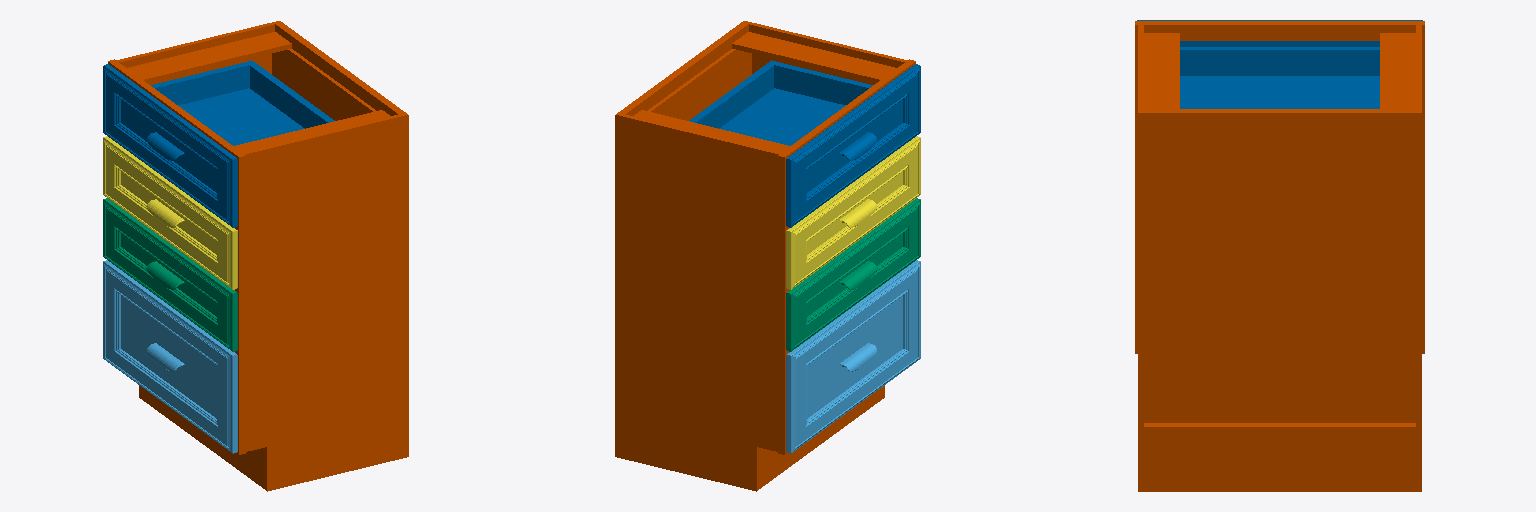
--- Render facts (derived) ---
The picture shows the robot from 3 angles, left to right: view 1: azimuth 30°, elevation 25°; view 2: azimuth 150°, elevation 25°; view 3: azimuth 270°, elevation 25°; orthographic projection.
Model partnet_12cb11dbb135ca9ac59350d819542ec7 with 6 links and 5 joints (4 prismatic, 1 fixed), rooted at base, posed every joint at zero.
Links seen in each view (by area): view 1: link_4, link_3, link_0, link_2, link_1; view 2: link_4, link_3, link_0, link_2, link_1; view 3: link_4, link_3.
Link boxes in pixels (x1,y1,x2,y2): link_4: (108, 21, 408, 491); link_3: (103, 60, 334, 227); link_0: (103, 260, 237, 453); link_2: (103, 136, 237, 289); link_1: (103, 198, 237, 351); link_4: (615, 21, 915, 491); link_3: (689, 60, 920, 227); link_0: (786, 260, 920, 453); link_2: (786, 136, 920, 289); link_1: (786, 198, 920, 351); link_4: (1135, 21, 1424, 491); link_3: (1137, 20, 1422, 108).
Size in the robot's own frame: 0.8429 by 1.04 by 1.5 metres.
93 mesh visuals loaded from 93 distinct referenced files (93 OBJ).

URDF robot description (partnet_12cb11dbb135ca9ac59350d819542ec7):
<?xml version="1.0" ?>
<robot name="partnet_12cb11dbb135ca9ac59350d819542ec7">
	<link name="base"/>
	<link name="link_0">
		<visual name="drawer_front-31">
			<origin xyz="0 0 0"/>
			<geometry>
				<mesh filename="package://objects_description/storage1/textured_objs/original-50.obj"/>
			</geometry>
		</visual>
		<visual name="drawer_front-31">
			<origin xyz="0 0 0"/>
			<geometry>
				<mesh filename="package://objects_description/storage1/textured_objs/original-67.obj"/>
			</geometry>
		</visual>
		<visual name="drawer_front-31">
			<origin xyz="0 0 0"/>
			<geometry>
				<mesh filename="package://objects_description/storage1/textured_objs/original-61.obj"/>
			</geometry>
		</visual>
		<visual name="drawer_front-31">
			<origin xyz="0 0 0"/>
			<geometry>
				<mesh filename="package://objects_description/storage1/textured_objs/original-64.obj"/>
			</geometry>
		</visual>
		<visual name="drawer_front-31">
			<origin xyz="0 0 0"/>
			<geometry>
				<mesh filename="package://objects_description/storage1/textured_objs/original-58.obj"/>
			</geometry>
		</visual>
		<visual name="drawer_front-31">
			<origin xyz="0 0 0"/>
			<geometry>
				<mesh filename="package://objects_description/storage1/textured_objs/original-62.obj"/>
			</geometry>
		</visual>
		<visual name="drawer_front-31">
			<origin xyz="0 0 0"/>
			<geometry>
				<mesh filename="package://objects_description/storage1/textured_objs/original-59.obj"/>
			</geometry>
		</visual>
		<visual name="drawer_front-31">
			<origin xyz="0 0 0"/>
			<geometry>
				<mesh filename="package://objects_description/storage1/textured_objs/original-65.obj"/>
			</geometry>
		</visual>
		<visual name="drawer_front-31">
			<origin xyz="0 0 0"/>
			<geometry>
				<mesh filename="package://objects_description/storage1/textured_objs/original-60.obj"/>
			</geometry>
		</visual>
		<visual name="drawer_front-31">
			<origin xyz="0 0 0"/>
			<geometry>
				<mesh filename="package://objects_description/storage1/textured_objs/original-63.obj"/>
			</geometry>
		</visual>
		<visual name="drawer_front-31">
			<origin xyz="0 0 0"/>
			<geometry>
				<mesh filename="package://objects_description/storage1/textured_objs/original-68.obj"/>
			</geometry>
		</visual>
		<visual name="drawer_side-32">
			<origin xyz="0 0 0"/>
			<geometry>
				<mesh filename="package://objects_description/storage1/textured_objs/original-49.obj"/>
			</geometry>
		</visual>
		<visual name="drawer_side-33">
			<origin xyz="0 0 0"/>
			<geometry>
				<mesh filename="package://objects_description/storage1/textured_objs/original-54.obj"/>
			</geometry>
		</visual>
		<visual name="drawer_side-33">
			<origin xyz="0 0 0"/>
			<geometry>
				<mesh filename="package://objects_description/storage1/textured_objs/original-56.obj"/>
			</geometry>
		</visual>
		<visual name="drawer_back-34">
			<origin xyz="0 0 0"/>
			<geometry>
				<mesh filename="package://objects_description/storage1/textured_objs/original-55.obj"/>
			</geometry>
		</visual>
		<visual name="drawer_bottom-35">
			<origin xyz="0 0 0"/>
			<geometry>
				<mesh filename="package://objects_description/storage1/textured_objs/original-53.obj"/>
			</geometry>
		</visual>
		<visual name="drawer_bottom-35">
			<origin xyz="0 0 0"/>
			<geometry>
				<mesh filename="package://objects_description/storage1/textured_objs/original-52.obj"/>
			</geometry>
		</visual>
		<visual name="handle-30">
			<origin xyz="0 0 0"/>
			<geometry>
				<mesh filename="package://objects_description/storage1/textured_objs/original-69.obj"/>
			</geometry>
		</visual>
		<collision>
			<origin xyz="0 0 0"/>
			<geometry>
				<mesh filename="package://objects_description/storage1/textured_objs/original-50.obj"/>
			</geometry>
		</collision>
		<collision>
			<origin xyz="0 0 0"/>
			<geometry>
				<mesh filename="package://objects_description/storage1/textured_objs/original-67.obj"/>
			</geometry>
		</collision>
		<collision>
			<origin xyz="0 0 0"/>
			<geometry>
				<mesh filename="package://objects_description/storage1/textured_objs/original-61.obj"/>
			</geometry>
		</collision>
		<collision>
			<origin xyz="0 0 0"/>
			<geometry>
				<mesh filename="package://objects_description/storage1/textured_objs/original-64.obj"/>
			</geometry>
		</collision>
		<collision>
			<origin xyz="0 0 0"/>
			<geometry>
				<mesh filename="package://objects_description/storage1/textured_objs/original-58.obj"/>
			</geometry>
		</collision>
		<collision>
			<origin xyz="0 0 0"/>
			<geometry>
				<mesh filename="package://objects_description/storage1/textured_objs/original-62.obj"/>
			</geometry>
		</collision>
		<collision>
			<origin xyz="0 0 0"/>
			<geometry>
				<mesh filename="package://objects_description/storage1/textured_objs/original-59.obj"/>
			</geometry>
		</collision>
		<collision>
			<origin xyz="0 0 0"/>
			<geometry>
				<mesh filename="package://objects_description/storage1/textured_objs/original-65.obj"/>
			</geometry>
		</collision>
		<collision>
			<origin xyz="0 0 0"/>
			<geometry>
				<mesh filename="package://objects_description/storage1/textured_objs/original-60.obj"/>
			</geometry>
		</collision>
		<collision>
			<origin xyz="0 0 0"/>
			<geometry>
				<mesh filename="package://objects_description/storage1/textured_objs/original-63.obj"/>
			</geometry>
		</collision>
		<collision>
			<origin xyz="0 0 0"/>
			<geometry>
				<mesh filename="package://objects_description/storage1/textured_objs/original-68.obj"/>
			</geometry>
		</collision>
		<collision>
			<origin xyz="0 0 0"/>
			<geometry>
				<mesh filename="package://objects_description/storage1/textured_objs/original-49.obj"/>
			</geometry>
		</collision>
		<collision>
			<origin xyz="0 0 0"/>
			<geometry>
				<mesh filename="package://objects_description/storage1/textured_objs/original-54.obj"/>
			</geometry>
		</collision>
		<collision>
			<origin xyz="0 0 0"/>
			<geometry>
				<mesh filename="package://objects_description/storage1/textured_objs/original-56.obj"/>
			</geometry>
		</collision>
		<collision>
			<origin xyz="0 0 0"/>
			<geometry>
				<mesh filename="package://objects_description/storage1/textured_objs/original-55.obj"/>
			</geometry>
		</collision>
		<collision>
			<origin xyz="0 0 0"/>
			<geometry>
				<mesh filename="package://objects_description/storage1/textured_objs/original-53.obj"/>
			</geometry>
		</collision>
		<collision>
			<origin xyz="0 0 0"/>
			<geometry>
				<mesh filename="package://objects_description/storage1/textured_objs/original-52.obj"/>
			</geometry>
		</collision>
		<collision>
			<origin xyz="0 0 0"/>
			<geometry>
				<mesh filename="package://objects_description/storage1/textured_objs/original-69.obj"/>
			</geometry>
		</collision>
	</link>
	<joint name="joint_0" type="prismatic">
		<origin xyz="0 0 0"/>
		<axis xyz="0 0 1"/>
		<child link="link_0"/>
		<parent link="link_4"/>
		<limit lower="0" upper="0.5"/>
	</joint>
	<link name="link_1">
		<visual name="drawer_front-24">
			<origin xyz="0 0 0"/>
			<geometry>
				<mesh filename="package://objects_description/storage1/textured_objs/original-113.obj"/>
			</geometry>
		</visual>
		<visual name="drawer_front-24">
			<origin xyz="0 0 0"/>
			<geometry>
				<mesh filename="package://objects_description/storage1/textured_objs/original-110.obj"/>
			</geometry>
		</visual>
		<visual name="drawer_front-24">
			<origin xyz="0 0 0"/>
			<geometry>
				<mesh filename="package://objects_description/storage1/textured_objs/original-104.obj"/>
			</geometry>
		</visual>
		<visual name="drawer_front-24">
			<origin xyz="0 0 0"/>
			<geometry>
				<mesh filename="package://objects_description/storage1/textured_objs/original-107.obj"/>
			</geometry>
		</visual>
		<visual name="drawer_front-24">
			<origin xyz="0 0 0"/>
			<geometry>
				<mesh filename="package://objects_description/storage1/textured_objs/original-109.obj"/>
			</geometry>
		</visual>
		<visual name="drawer_front-24">
			<origin xyz="0 0 0"/>
			<geometry>
				<mesh filename="package://objects_description/storage1/textured_objs/original-106.obj"/>
			</geometry>
		</visual>
		<visual name="drawer_front-24">
			<origin xyz="0 0 0"/>
			<geometry>
				<mesh filename="package://objects_description/storage1/textured_objs/original-105.obj"/>
			</geometry>
		</visual>
		<visual name="drawer_front-24">
			<origin xyz="0 0 0"/>
			<geometry>
				<mesh filename="package://objects_description/storage1/textured_objs/original-111.obj"/>
			</geometry>
		</visual>
		<visual name="drawer_front-24">
			<origin xyz="0 0 0"/>
			<geometry>
				<mesh filename="package://objects_description/storage1/textured_objs/original-96.obj"/>
			</geometry>
		</visual>
		<visual name="drawer_front-24">
			<origin xyz="0 0 0"/>
			<geometry>
				<mesh filename="package://objects_description/storage1/textured_objs/original-108.obj"/>
			</geometry>
		</visual>
		<visual name="drawer_front-24">
			<origin xyz="0 0 0"/>
			<geometry>
				<mesh filename="package://objects_description/storage1/textured_objs/original-114.obj"/>
			</geometry>
		</visual>
		<visual name="drawer_side-25">
			<origin xyz="0 0 0"/>
			<geometry>
				<mesh filename="package://objects_description/storage1/textured_objs/original-95.obj"/>
			</geometry>
		</visual>
		<visual name="drawer_side-26">
			<origin xyz="0 0 0"/>
			<geometry>
				<mesh filename="package://objects_description/storage1/textured_objs/original-100.obj"/>
			</geometry>
		</visual>
		<visual name="drawer_side-26">
			<origin xyz="0 0 0"/>
			<geometry>
				<mesh filename="package://objects_description/storage1/textured_objs/original-102.obj"/>
			</geometry>
		</visual>
		<visual name="drawer_back-27">
			<origin xyz="0 0 0"/>
			<geometry>
				<mesh filename="package://objects_description/storage1/textured_objs/original-101.obj"/>
			</geometry>
		</visual>
		<visual name="drawer_bottom-28">
			<origin xyz="0 0 0"/>
			<geometry>
				<mesh filename="package://objects_description/storage1/textured_objs/original-99.obj"/>
			</geometry>
		</visual>
		<visual name="drawer_bottom-28">
			<origin xyz="0 0 0"/>
			<geometry>
				<mesh filename="package://objects_description/storage1/textured_objs/original-98.obj"/>
			</geometry>
		</visual>
		<visual name="handle-23">
			<origin xyz="0 0 0"/>
			<geometry>
				<mesh filename="package://objects_description/storage1/textured_objs/original-115.obj"/>
			</geometry>
		</visual>
		<collision>
			<origin xyz="0 0 0"/>
			<geometry>
				<mesh filename="package://objects_description/storage1/textured_objs/original-113.obj"/>
			</geometry>
		</collision>
		<collision>
			<origin xyz="0 0 0"/>
			<geometry>
				<mesh filename="package://objects_description/storage1/textured_objs/original-110.obj"/>
			</geometry>
		</collision>
		<collision>
			<origin xyz="0 0 0"/>
			<geometry>
				<mesh filename="package://objects_description/storage1/textured_objs/original-104.obj"/>
			</geometry>
		</collision>
		<collision>
			<origin xyz="0 0 0"/>
			<geometry>
				<mesh filename="package://objects_description/storage1/textured_objs/original-107.obj"/>
			</geometry>
		</collision>
		<collision>
			<origin xyz="0 0 0"/>
			<geometry>
				<mesh filename="package://objects_description/storage1/textured_objs/original-109.obj"/>
			</geometry>
		</collision>
		<collision>
			<origin xyz="0 0 0"/>
			<geometry>
				<mesh filename="package://objects_description/storage1/textured_objs/original-106.obj"/>
			</geometry>
		</collision>
		<collision>
			<origin xyz="0 0 0"/>
			<geometry>
				<mesh filename="package://objects_description/storage1/textured_objs/original-105.obj"/>
			</geometry>
		</collision>
		<collision>
			<origin xyz="0 0 0"/>
			<geometry>
				<mesh filename="package://objects_description/storage1/textured_objs/original-111.obj"/>
			</geometry>
		</collision>
		<collision>
			<origin xyz="0 0 0"/>
			<geometry>
				<mesh filename="package://objects_description/storage1/textured_objs/original-96.obj"/>
			</geometry>
		</collision>
		<collision>
			<origin xyz="0 0 0"/>
			<geometry>
				<mesh filename="package://objects_description/storage1/textured_objs/original-108.obj"/>
			</geometry>
		</collision>
		<collision>
			<origin xyz="0 0 0"/>
			<geometry>
				<mesh filename="package://objects_description/storage1/textured_objs/original-114.obj"/>
			</geometry>
		</collision>
		<collision>
			<origin xyz="0 0 0"/>
			<geometry>
				<mesh filename="package://objects_description/storage1/textured_objs/original-95.obj"/>
			</geometry>
		</collision>
		<collision>
			<origin xyz="0 0 0"/>
			<geometry>
				<mesh filename="package://objects_description/storage1/textured_objs/original-100.obj"/>
			</geometry>
		</collision>
		<collision>
			<origin xyz="0 0 0"/>
			<geometry>
				<mesh filename="package://objects_description/storage1/textured_objs/original-102.obj"/>
			</geometry>
		</collision>
		<collision>
			<origin xyz="0 0 0"/>
			<geometry>
				<mesh filename="package://objects_description/storage1/textured_objs/original-101.obj"/>
			</geometry>
		</collision>
		<collision>
			<origin xyz="0 0 0"/>
			<geometry>
				<mesh filename="package://objects_description/storage1/textured_objs/original-99.obj"/>
			</geometry>
		</collision>
		<collision>
			<origin xyz="0 0 0"/>
			<geometry>
				<mesh filename="package://objects_description/storage1/textured_objs/original-98.obj"/>
			</geometry>
		</collision>
		<collision>
			<origin xyz="0 0 0"/>
			<geometry>
				<mesh filename="package://objects_description/storage1/textured_objs/original-115.obj"/>
			</geometry>
		</collision>
	</link>
	<joint name="joint_1" type="prismatic">
		<origin xyz="0 0 0"/>
		<axis xyz="0 0 1"/>
		<child link="link_1"/>
		<parent link="link_4"/>
		<limit lower="0" upper="0.5"/>
	</joint>
	<link name="link_2">
		<visual name="drawer_front-17">
			<origin xyz="0 0 0"/>
			<geometry>
				<mesh filename="package://objects_description/storage1/textured_objs/original-87.obj"/>
			</geometry>
		</visual>
		<visual name="drawer_front-17">
			<origin xyz="0 0 0"/>
			<geometry>
				<mesh filename="package://objects_description/storage1/textured_objs/original-90.obj"/>
			</geometry>
		</visual>
		<visual name="drawer_front-17">
			<origin xyz="0 0 0"/>
			<geometry>
				<mesh filename="package://objects_description/storage1/textured_objs/original-86.obj"/>
			</geometry>
		</visual>
		<visual name="drawer_front-17">
			<origin xyz="0 0 0"/>
			<geometry>
				<mesh filename="package://objects_description/storage1/textured_objs/original-85.obj"/>
			</geometry>
		</visual>
		<visual name="drawer_front-17">
			<origin xyz="0 0 0"/>
			<geometry>
				<mesh filename="package://objects_description/storage1/textured_objs/original-81.obj"/>
			</geometry>
		</visual>
		<visual name="drawer_front-17">
			<origin xyz="0 0 0"/>
			<geometry>
				<mesh filename="package://objects_description/storage1/textured_objs/original-84.obj"/>
			</geometry>
		</visual>
		<visual name="drawer_front-17">
			<origin xyz="0 0 0"/>
			<geometry>
				<mesh filename="package://objects_description/storage1/textured_objs/original-83.obj"/>
			</geometry>
		</visual>
		<visual name="drawer_front-17">
			<origin xyz="0 0 0"/>
			<geometry>
				<mesh filename="package://objects_description/storage1/textured_objs/original-82.obj"/>
			</geometry>
		</visual>
		<visual name="drawer_front-17">
			<origin xyz="0 0 0"/>
			<geometry>
				<mesh filename="package://objects_description/storage1/textured_objs/original-88.obj"/>
			</geometry>
		</visual>
		<visual name="drawer_front-17">
			<origin xyz="0 0 0"/>
			<geometry>
				<mesh filename="package://objects_description/storage1/textured_objs/original-91.obj"/>
			</geometry>
		</visual>
		<visual name="drawer_front-17">
			<origin xyz="0 0 0"/>
			<geometry>
				<mesh filename="package://objects_description/storage1/textured_objs/original-73.obj"/>
			</geometry>
		</visual>
		<visual name="drawer_side-18">
			<origin xyz="0 0 0"/>
			<geometry>
				<mesh filename="package://objects_description/storage1/textured_objs/original-72.obj"/>
			</geometry>
		</visual>
		<visual name="drawer_side-19">
			<origin xyz="0 0 0"/>
			<geometry>
				<mesh filename="package://objects_description/storage1/textured_objs/original-77.obj"/>
			</geometry>
		</visual>
		<visual name="drawer_side-19">
			<origin xyz="0 0 0"/>
			<geometry>
				<mesh filename="package://objects_description/storage1/textured_objs/original-79.obj"/>
			</geometry>
		</visual>
		<visual name="drawer_back-20">
			<origin xyz="0 0 0"/>
			<geometry>
				<mesh filename="package://objects_description/storage1/textured_objs/original-78.obj"/>
			</geometry>
		</visual>
		<visual name="drawer_bottom-21">
			<origin xyz="0 0 0"/>
			<geometry>
				<mesh filename="package://objects_description/storage1/textured_objs/original-76.obj"/>
			</geometry>
		</visual>
		<visual name="drawer_bottom-21">
			<origin xyz="0 0 0"/>
			<geometry>
				<mesh filename="package://objects_description/storage1/textured_objs/original-75.obj"/>
			</geometry>
		</visual>
		<visual name="handle-16">
			<origin xyz="0 0 0"/>
			<geometry>
				<mesh filename="package://objects_description/storage1/textured_objs/original-92.obj"/>
			</geometry>
		</visual>
		<collision>
			<origin xyz="0 0 0"/>
			<geometry>
				<mesh filename="package://objects_description/storage1/textured_objs/original-87.obj"/>
			</geometry>
		</collision>
		<collision>
			<origin xyz="0 0 0"/>
			<geometry>
				<mesh filename="package://objects_description/storage1/textured_objs/original-90.obj"/>
			</geometry>
		</collision>
		<collision>
			<origin xyz="0 0 0"/>
			<geometry>
				<mesh filename="package://objects_description/storage1/textured_objs/original-86.obj"/>
			</geometry>
		</collision>
		<collision>
			<origin xyz="0 0 0"/>
			<geometry>
				<mesh filename="package://objects_description/storage1/textured_objs/original-85.obj"/>
			</geometry>
		</collision>
		<collision>
			<origin xyz="0 0 0"/>
			<geometry>
				<mesh filename="package://objects_description/storage1/textured_objs/original-81.obj"/>
			</geometry>
		</collision>
		<collision>
			<origin xyz="0 0 0"/>
			<geometry>
				<mesh filename="package://objects_description/storage1/textured_objs/original-84.obj"/>
			</geometry>
		</collision>
		<collision>
			<origin xyz="0 0 0"/>
			<geometry>
				<mesh filename="package://objects_description/storage1/textured_objs/original-83.obj"/>
			</geometry>
		</collision>
		<collision>
			<origin xyz="0 0 0"/>
			<geometry>
				<mesh filename="package://objects_description/storage1/textured_objs/original-82.obj"/>
			</geometry>
		</collision>
		<collision>
			<origin xyz="0 0 0"/>
			<geometry>
				<mesh filename="package://objects_description/storage1/textured_objs/original-88.obj"/>
			</geometry>
		</collision>
		<collision>
			<origin xyz="0 0 0"/>
			<geometry>
				<mesh filename="package://objects_description/storage1/textured_objs/original-91.obj"/>
			</geometry>
		</collision>
		<collision>
			<origin xyz="0 0 0"/>
			<geometry>
				<mesh filename="package://objects_description/storage1/textured_objs/original-73.obj"/>
			</geometry>
		</collision>
		<collision>
			<origin xyz="0 0 0"/>
			<geometry>
				<mesh filename="package://objects_description/storage1/textured_objs/original-72.obj"/>
			</geometry>
		</collision>
		<collision>
			<origin xyz="0 0 0"/>
			<geometry>
				<mesh filename="package://objects_description/storage1/textured_objs/original-77.obj"/>
			</geometry>
		</collision>
		<collision>
			<origin xyz="0 0 0"/>
			<geometry>
				<mesh filename="package://objects_description/storage1/textured_objs/original-79.obj"/>
			</geometry>
		</collision>
		<collision>
			<origin xyz="0 0 0"/>
			<geometry>
				<mesh filename="package://objects_description/storage1/textured_objs/original-78.obj"/>
			</geometry>
		</collision>
		<collision>
			<origin xyz="0 0 0"/>
			<geometry>
				<mesh filename="package://objects_description/storage1/textured_objs/original-76.obj"/>
			</geometry>
		</collision>
		<collision>
			<origin xyz="0 0 0"/>
			<geometry>
				<mesh filename="package://objects_description/storage1/textured_objs/original-75.obj"/>
			</geometry>
		</collision>
		<collision>
			<origin xyz="0 0 0"/>
			<geometry>
				<mesh filename="package://objects_description/storage1/textured_objs/original-92.obj"/>
			</geometry>
		</collision>
	</link>
	<joint name="joint_2" type="prismatic">
		<origin xyz="0 0 0"/>
		<axis xyz="0 0 1"/>
		<child link="link_2"/>
		<parent link="link_4"/>
		<limit lower="0" upper="0.5"/>
	</joint>
	<link name="link_3">
		<visual name="drawer_front-10">
			<origin xyz="0 0 0"/>
			<geometry>
				<mesh filename="package://objects_description/storage1/textured_objs/original-41.obj"/>
			</geometry>
		</visual>
		<visual name="drawer_front-10">
			<origin xyz="0 0 0"/>
			<geometry>
				<mesh filename="package://objects_description/storage1/textured_objs/original-44.obj"/>
			</geometry>
		</visual>
		<visual name="drawer_front-10">
			<origin xyz="0 0 0"/>
			<geometry>
				<mesh filename="package://objects_description/storage1/textured_objs/original-35.obj"/>
			</geometry>
		</visual>
		<visual name="drawer_front-10">
			<origin xyz="0 0 0"/>
			<geometry>
				<mesh filename="package://objects_description/storage1/textured_objs/original-39.obj"/>
			</geometry>
		</visual>
		<visual name="drawer_front-10">
			<origin xyz="0 0 0"/>
			<geometry>
				<mesh filename="package://objects_description/storage1/textured_objs/original-36.obj"/>
			</geometry>
		</visual>
		<visual name="drawer_front-10">
			<origin xyz="0 0 0"/>
			<geometry>
				<mesh filename="package://objects_description/storage1/textured_objs/original-42.obj"/>
			</geometry>
		</visual>
		<visual name="drawer_front-10">
			<origin xyz="0 0 0"/>
			<geometry>
				<mesh filename="package://objects_description/storage1/textured_objs/original-38.obj"/>
			</geometry>
		</visual>
		<visual name="drawer_front-10">
			<origin xyz="0 0 0"/>
			<geometry>
				<mesh filename="package://objects_description/storage1/textured_objs/original-37.obj"/>
			</geometry>
		</visual>
		<visual name="drawer_front-10">
			<origin xyz="0 0 0"/>
			<geometry>
				<mesh filename="package://objects_description/storage1/textured_objs/original-45.obj"/>
			</geometry>
		</visual>
		<visual name="drawer_front-10">
			<origin xyz="0 0 0"/>
			<geometry>
				<mesh filename="package://objects_description/storage1/textured_objs/original-40.obj"/>
			</geometry>
		</visual>
		<visual name="drawer_front-10">
			<origin xyz="0 0 0"/>
			<geometry>
				<mesh filename="package://objects_description/storage1/textured_objs/original-27.obj"/>
			</geometry>
		</visual>
		<visual name="drawer_side-11">
			<origin xyz="0 0 0"/>
			<geometry>
				<mesh filename="package://objects_description/storage1/textured_objs/original-26.obj"/>
			</geometry>
		</visual>
		<visual name="drawer_side-12">
			<origin xyz="0 0 0"/>
			<geometry>
				<mesh filename="package://objects_description/storage1/textured_objs/original-31.obj"/>
			</geometry>
		</visual>
		<visual name="drawer_side-12">
			<origin xyz="0 0 0"/>
			<geometry>
				<mesh filename="package://objects_description/storage1/textured_objs/original-33.obj"/>
			</geometry>
		</visual>
		<visual name="drawer_back-13">
			<origin xyz="0 0 0"/>
			<geometry>
				<mesh filename="package://objects_description/storage1/textured_objs/original-32.obj"/>
			</geometry>
		</visual>
		<visual name="drawer_bottom-14">
			<origin xyz="0 0 0"/>
			<geometry>
				<mesh filename="package://objects_description/storage1/textured_objs/original-30.obj"/>
			</geometry>
		</visual>
		<visual name="drawer_bottom-14">
			<origin xyz="0 0 0"/>
			<geometry>
				<mesh filename="package://objects_description/storage1/textured_objs/original-29.obj"/>
			</geometry>
		</visual>
		<visual name="handle-9">
			<origin xyz="0 0 0"/>
			<geometry>
				<mesh filename="package://objects_description/storage1/textured_objs/original-46.obj"/>
			</geometry>
		</visual>
		<collision>
			<origin xyz="0 0 0"/>
			<geometry>
				<mesh filename="package://objects_description/storage1/textured_objs/original-41.obj"/>
			</geometry>
		</collision>
		<collision>
			<origin xyz="0 0 0"/>
			<geometry>
				<mesh filename="package://objects_description/storage1/textured_objs/original-44.obj"/>
			</geometry>
		</collision>
		<collision>
			<origin xyz="0 0 0"/>
			<geometry>
				<mesh filename="package://objects_description/storage1/textured_objs/original-35.obj"/>
			</geometry>
		</collision>
		<collision>
			<origin xyz="0 0 0"/>
			<geometry>
				<mesh filename="package://objects_description/storage1/textured_objs/original-39.obj"/>
			</geometry>
		</collision>
		<collision>
			<origin xyz="0 0 0"/>
			<geometry>
				<mesh filename="package://objects_description/storage1/textured_objs/original-36.obj"/>
			</geometry>
		</collision>
		<collision>
			<origin xyz="0 0 0"/>
			<geometry>
				<mesh filename="package://objects_description/storage1/textured_objs/original-42.obj"/>
			</geometry>
		</collision>
		<collision>
			<origin xyz="0 0 0"/>
			<geometry>
				<mesh filename="package://objects_description/storage1/textured_objs/original-38.obj"/>
			</geometry>
		</collision>
		<collision>
			<origin xyz="0 0 0"/>
			<geometry>
				<mesh filename="package://objects_description/storage1/textured_objs/original-37.obj"/>
			</geometry>
		</collision>
		<collision>
			<origin xyz="0 0 0"/>
			<geometry>
				<mesh filename="package://objects_description/storage1/textured_objs/original-45.obj"/>
			</geometry>
		</collision>
		<collision>
			<origin xyz="0 0 0"/>
			<geometry>
				<mesh filename="package://objects_description/storage1/textured_objs/original-40.obj"/>
			</geometry>
		</collision>
		<collision>
			<origin xyz="0 0 0"/>
			<geometry>
				<mesh filename="package://objects_description/storage1/textured_objs/original-27.obj"/>
			</geometry>
		</collision>
		<collision>
			<origin xyz="0 0 0"/>
			<geometry>
				<mesh filename="package://objects_description/storage1/textured_objs/original-26.obj"/>
			</geometry>
		</collision>
		<collision>
			<origin xyz="0 0 0"/>
			<geometry>
				<mesh filename="package://objects_description/storage1/textured_objs/original-31.obj"/>
			</geometry>
		</collision>
		<collision>
			<origin xyz="0 0 0"/>
			<geometry>
				<mesh filename="package://objects_description/storage1/textured_objs/original-33.obj"/>
			</geometry>
		</collision>
		<collision>
			<origin xyz="0 0 0"/>
			<geometry>
				<mesh filename="package://objects_description/storage1/textured_objs/original-32.obj"/>
			</geometry>
		</collision>
		<collision>
			<origin xyz="0 0 0"/>
			<geometry>
				<mesh filename="package://objects_description/storage1/textured_objs/original-30.obj"/>
			</geometry>
		</collision>
		<collision>
			<origin xyz="0 0 0"/>
			<geometry>
				<mesh filename="package://objects_description/storage1/textured_objs/original-29.obj"/>
			</geometry>
		</collision>
		<collision>
			<origin xyz="0 0 0"/>
			<geometry>
				<mesh filename="package://objects_description/storage1/textured_objs/original-46.obj"/>
			</geometry>
		</collision>
	</link>
	<joint name="joint_3" type="prismatic">
		<origin xyz="0 0 0"/>
		<axis xyz="0 0 1"/>
		<child link="link_3"/>
		<parent link="link_4"/>
		<limit lower="0" upper="0.5"/>
	</joint>
	<link name="link_4">
		<visual name="frame_vertical_bar-46">
			<origin xyz="0 0 0"/>
			<geometry>
				<mesh filename="package://objects_description/storage1/textured_objs/original-3.obj"/>
			</geometry>
		</visual>
		<visual name="frame_vertical_bar-47">
			<origin xyz="0 0 0"/>
			<geometry>
				<mesh filename="package://objects_description/storage1/textured_objs/original-7.obj"/>
			</geometry>
		</visual>
		<visual name="frame_horizontal_bar-48">
			<origin xyz="0 0 0"/>
			<geometry>
				<mesh filename="package://objects_description/storage1/textured_objs/original-4.obj"/>
			</geometry>
		</visual>
		<visual name="frame_horizontal_bar-49">
			<origin xyz="0 0 0"/>
			<geometry>
				<mesh filename="package://objects_description/storage1/textured_objs/original-21.obj"/>
			</geometry>
		</visual>
		<visual name="frame_horizontal_bar-50">
			<origin xyz="0 0 0"/>
			<geometry>
				<mesh filename="package://objects_description/storage1/textured_objs/original-20.obj"/>
			</geometry>
		</visual>
		<visual name="frame_horizontal_bar-51">
			<origin xyz="0 0 0"/>
			<geometry>
				<mesh filename="package://objects_description/storage1/textured_objs/original-6.obj"/>
			</geometry>
		</visual>
		<visual name="frame_horizontal_bar-52">
			<origin xyz="0 0 0"/>
			<geometry>
				<mesh filename="package://objects_description/storage1/textured_objs/original-17.obj"/>
			</geometry>
		</visual>
		<visual name="frame_horizontal_bar-53">
			<origin xyz="0 0 0"/>
			<geometry>
				<mesh filename="package://objects_description/storage1/textured_objs/original-22.obj"/>
			</geometry>
		</visual>
		<visual name="frame_horizontal_bar-54">
			<origin xyz="0 0 0"/>
			<geometry>
				<mesh filename="package://objects_description/storage1/textured_objs/original-23.obj"/>
			</geometry>
		</visual>
		<visual name="frame_horizontal_bar-55">
			<origin xyz="0 0 0"/>
			<geometry>
				<mesh filename="package://objects_description/storage1/textured_objs/original-8.obj"/>
			</geometry>
		</visual>
		<visual name="vertical_side_panel-56">
			<origin xyz="0 0 0"/>
			<geometry>
				<mesh filename="package://objects_description/storage1/textured_objs/original-11.obj"/>
			</geometry>
		</visual>
		<visual name="vertical_side_panel-56">
			<origin xyz="0 0 0"/>
			<geometry>
				<mesh filename="package://objects_description/storage1/textured_objs/original-10.obj"/>
			</geometry>
		</visual>
		<visual name="vertical_side_panel-57">
			<origin xyz="0 0 0"/>
			<geometry>
				<mesh filename="package://objects_description/storage1/textured_objs/original-15.obj"/>
			</geometry>
		</visual>
		<visual name="vertical_side_panel-57">
			<origin xyz="0 0 0"/>
			<geometry>
				<mesh filename="package://objects_description/storage1/textured_objs/original-14.obj"/>
			</geometry>
		</visual>
		<visual name="back_panel-58">
			<origin xyz="0 0 0"/>
			<geometry>
				<mesh filename="package://objects_description/storage1/textured_objs/original-116.obj"/>
			</geometry>
		</visual>
		<visual name="back_panel-58">
			<origin xyz="0 0 0"/>
			<geometry>
				<mesh filename="package://objects_description/storage1/textured_objs/original-5.obj"/>
			</geometry>
		</visual>
		<visual name="bottom_panel-59">
			<origin xyz="0 0 0"/>
			<geometry>
				<mesh filename="package://objects_description/storage1/textured_objs/original-2.obj"/>
			</geometry>
		</visual>
		<visual name="base_side_panel-37">
			<origin xyz="0 0 0"/>
			<geometry>
				<mesh filename="package://objects_description/storage1/textured_objs/original-18.obj"/>
			</geometry>
		</visual>
		<visual name="base_side_panel-38">
			<origin xyz="0 0 0"/>
			<geometry>
				<mesh filename="package://objects_description/storage1/textured_objs/original-12.obj"/>
			</geometry>
		</visual>
		<visual name="base_side_panel-39">
			<origin xyz="0 0 0"/>
			<geometry>
				<mesh filename="package://objects_description/storage1/textured_objs/original-19.obj"/>
			</geometry>
		</visual>
		<visual name="base_side_panel-40">
			<origin xyz="0 0 0"/>
			<geometry>
				<mesh filename="package://objects_description/storage1/textured_objs/original-16.obj"/>
			</geometry>
		</visual>
		<collision>
			<origin xyz="0 0 0"/>
			<geometry>
				<mesh filename="package://objects_description/storage1/textured_objs/original-3.obj"/>
			</geometry>
		</collision>
		<collision>
			<origin xyz="0 0 0"/>
			<geometry>
				<mesh filename="package://objects_description/storage1/textured_objs/original-7.obj"/>
			</geometry>
		</collision>
		<collision>
			<origin xyz="0 0 0"/>
			<geometry>
				<mesh filename="package://objects_description/storage1/textured_objs/original-4.obj"/>
			</geometry>
		</collision>
		<collision>
			<origin xyz="0 0 0"/>
			<geometry>
				<mesh filename="package://objects_description/storage1/textured_objs/original-21.obj"/>
			</geometry>
		</collision>
		<collision>
			<origin xyz="0 0 0"/>
			<geometry>
				<mesh filename="package://objects_description/storage1/textured_objs/original-20.obj"/>
			</geometry>
		</collision>
		<collision>
			<origin xyz="0 0 0"/>
			<geometry>
				<mesh filename="package://objects_description/storage1/textured_objs/original-6.obj"/>
			</geometry>
		</collision>
		<collision>
			<origin xyz="0 0 0"/>
			<geometry>
				<mesh filename="package://objects_description/storage1/textured_objs/original-17.obj"/>
			</geometry>
		</collision>
		<collision>
			<origin xyz="0 0 0"/>
			<geometry>
				<mesh filename="package://objects_description/storage1/textured_objs/original-22.obj"/>
			</geometry>
		</collision>
		<collision>
			<origin xyz="0 0 0"/>
			<geometry>
				<mesh filename="package://objects_description/storage1/textured_objs/original-23.obj"/>
			</geometry>
		</collision>
		<collision>
			<origin xyz="0 0 0"/>
			<geometry>
				<mesh filename="package://objects_description/storage1/textured_objs/original-8.obj"/>
			</geometry>
		</collision>
		<collision>
			<origin xyz="0 0 0"/>
			<geometry>
				<mesh filename="package://objects_description/storage1/textured_objs/original-11.obj"/>
			</geometry>
		</collision>
		<collision>
			<origin xyz="0 0 0"/>
			<geometry>
				<mesh filename="package://objects_description/storage1/textured_objs/original-10.obj"/>
			</geometry>
		</collision>
		<collision>
			<origin xyz="0 0 0"/>
			<geometry>
				<mesh filename="package://objects_description/storage1/textured_objs/original-15.obj"/>
			</geometry>
		</collision>
		<collision>
			<origin xyz="0 0 0"/>
			<geometry>
				<mesh filename="package://objects_description/storage1/textured_objs/original-14.obj"/>
			</geometry>
		</collision>
		<collision>
			<origin xyz="0 0 0"/>
			<geometry>
				<mesh filename="package://objects_description/storage1/textured_objs/original-116.obj"/>
			</geometry>
		</collision>
		<collision>
			<origin xyz="0 0 0"/>
			<geometry>
				<mesh filename="package://objects_description/storage1/textured_objs/original-5.obj"/>
			</geometry>
		</collision>
		<collision>
			<origin xyz="0 0 0"/>
			<geometry>
				<mesh filename="package://objects_description/storage1/textured_objs/original-2.obj"/>
			</geometry>
		</collision>
		<collision>
			<origin xyz="0 0 0"/>
			<geometry>
				<mesh filename="package://objects_description/storage1/textured_objs/original-18.obj"/>
			</geometry>
		</collision>
		<collision>
			<origin xyz="0 0 0"/>
			<geometry>
				<mesh filename="package://objects_description/storage1/textured_objs/original-12.obj"/>
			</geometry>
		</collision>
		<collision>
			<origin xyz="0 0 0"/>
			<geometry>
				<mesh filename="package://objects_description/storage1/textured_objs/original-19.obj"/>
			</geometry>
		</collision>
		<collision>
			<origin xyz="0 0 0"/>
			<geometry>
				<mesh filename="package://objects_description/storage1/textured_objs/original-16.obj"/>
			</geometry>
		</collision>
	</link>
	<joint name="joint_4" type="fixed">
		<origin rpy="1.570796326794897 0 -1.570796326794897" xyz="0 0 0"/>
		<child link="link_4"/>
		<parent link="base"/>
	</joint>
</robot>
